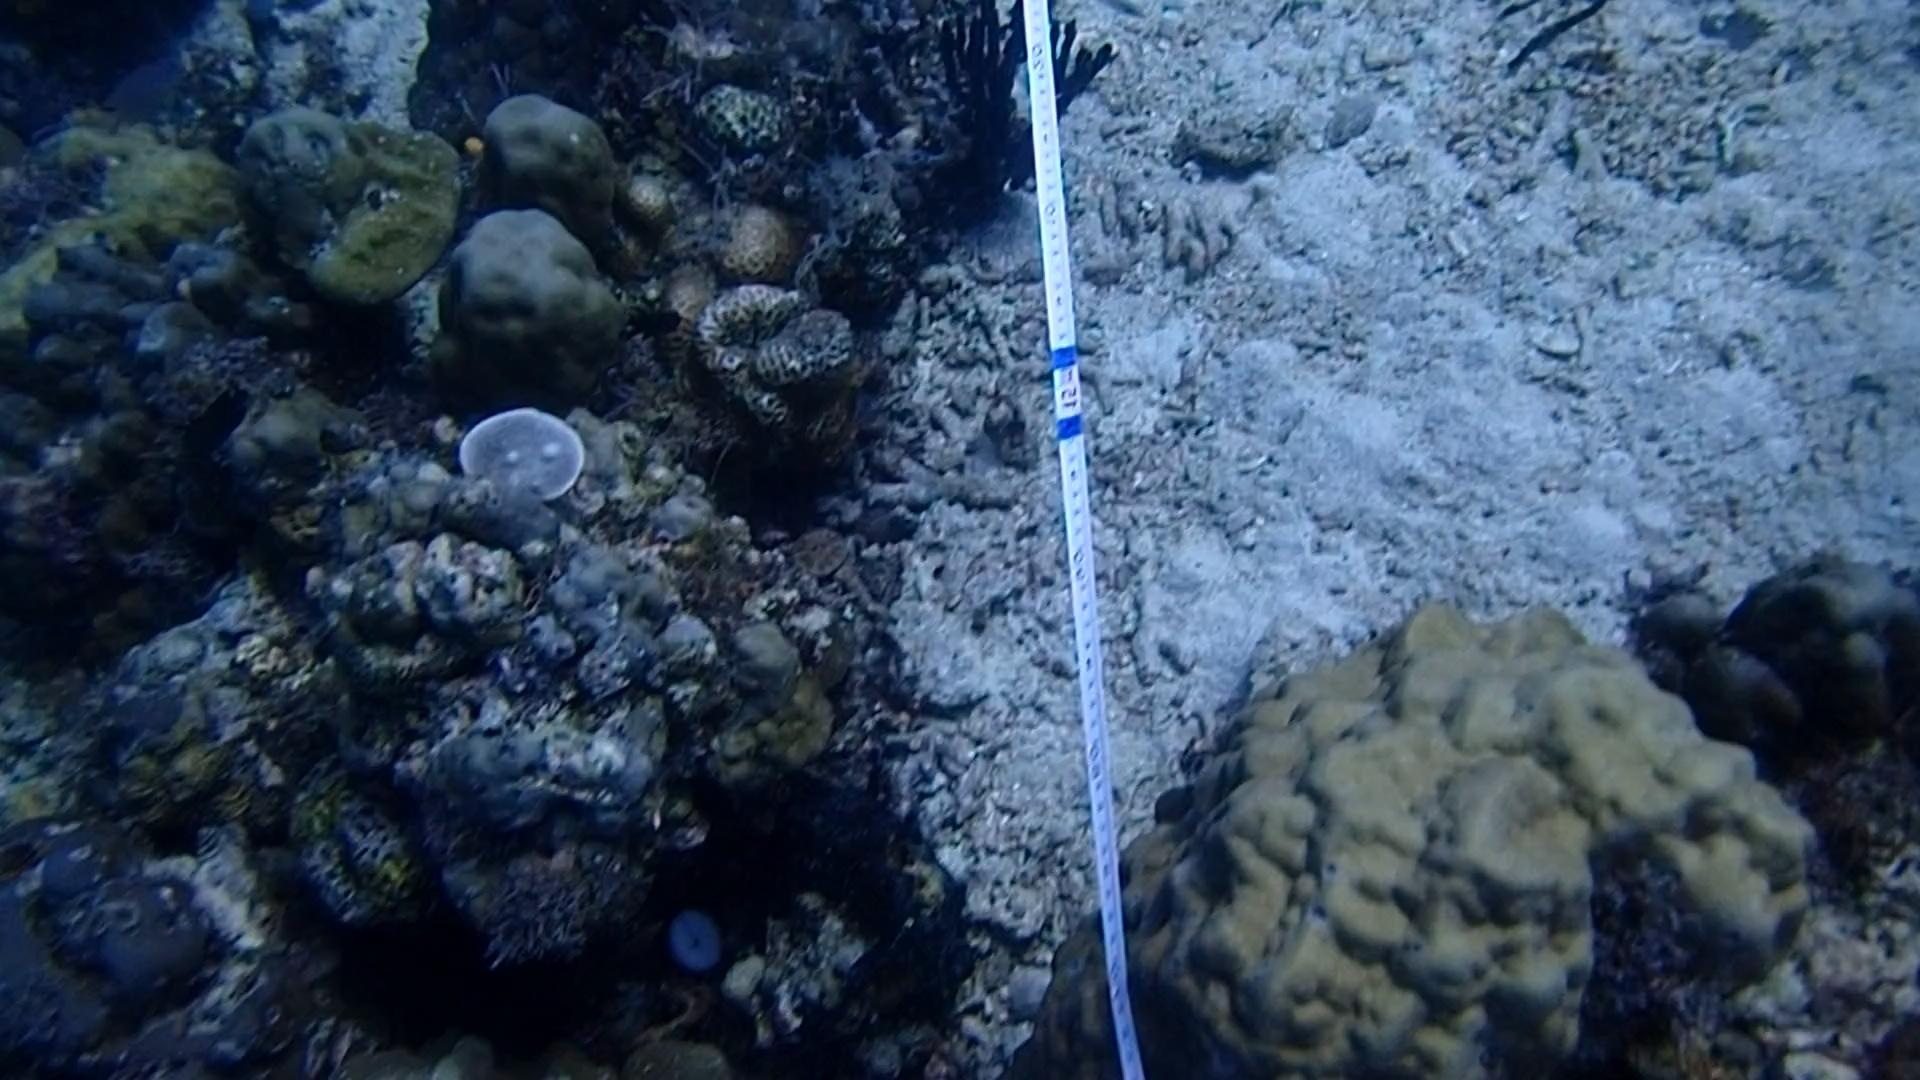Dark Fish: (618, 297, 686, 347)
